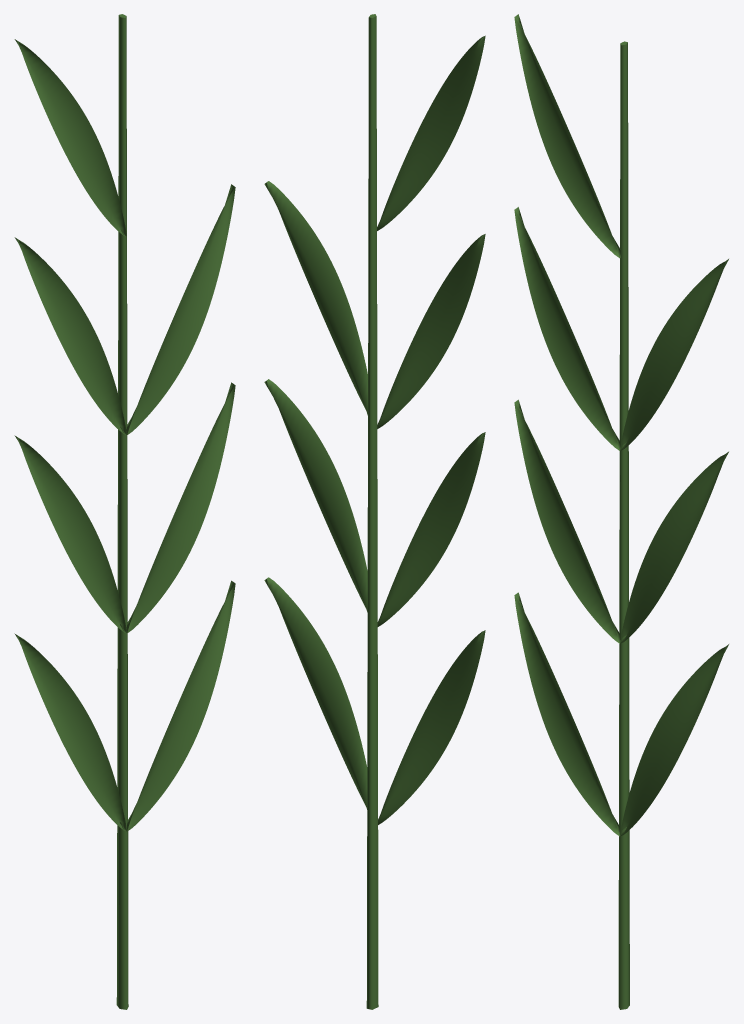
The model's file is leaf-frond.glb.
The picture shows the model from 3 angles, left to right: view 1: azimuth 30°, elevation 25°; view 2: azimuth 150°, elevation 25°; view 3: azimuth 330°, elevation 25°; orthographic projection. The views are drawn at different scales.
Parts seen in each view (by area): view 1: tint-surface; view 2: tint-surface; view 3: tint-surface.
Boxes of the visible parts, box(x1,y1,x2,y2) form: tint-surface: box(14, 14, 235, 1009); tint-surface: box(264, 14, 485, 1009); tint-surface: box(514, 14, 728, 1009).
Size of the model in its own units: 0.3666 by 1.61 by 0.0475.
